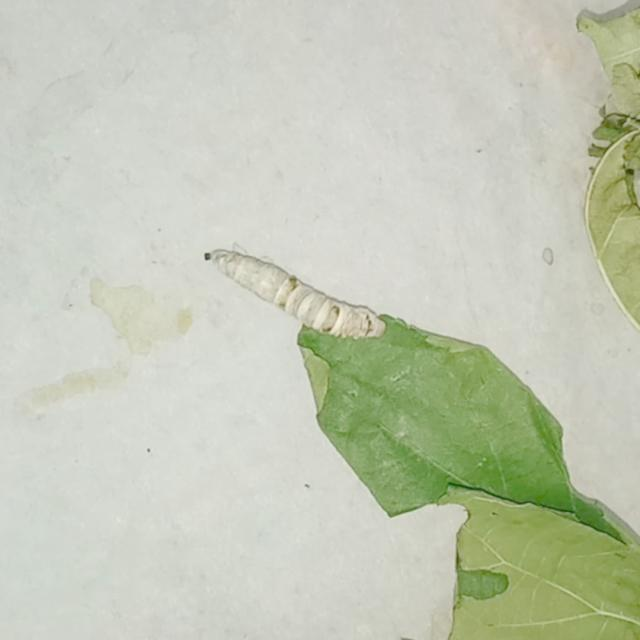Grasserie: (199, 232, 398, 371)
